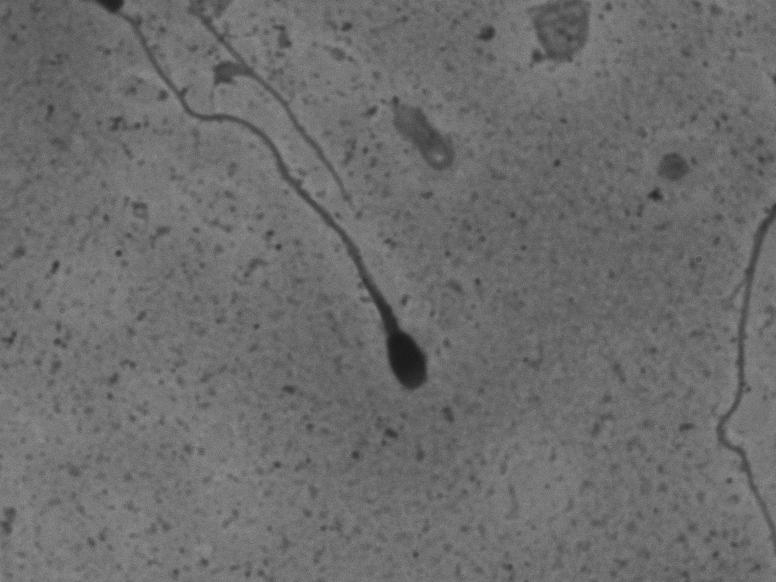Normal: (112, 10, 450, 403)
